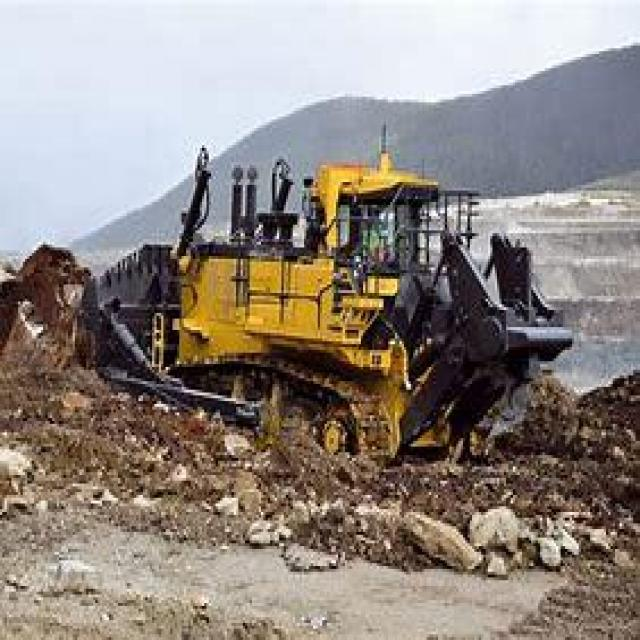Bulldozer: (57, 122, 574, 495)
